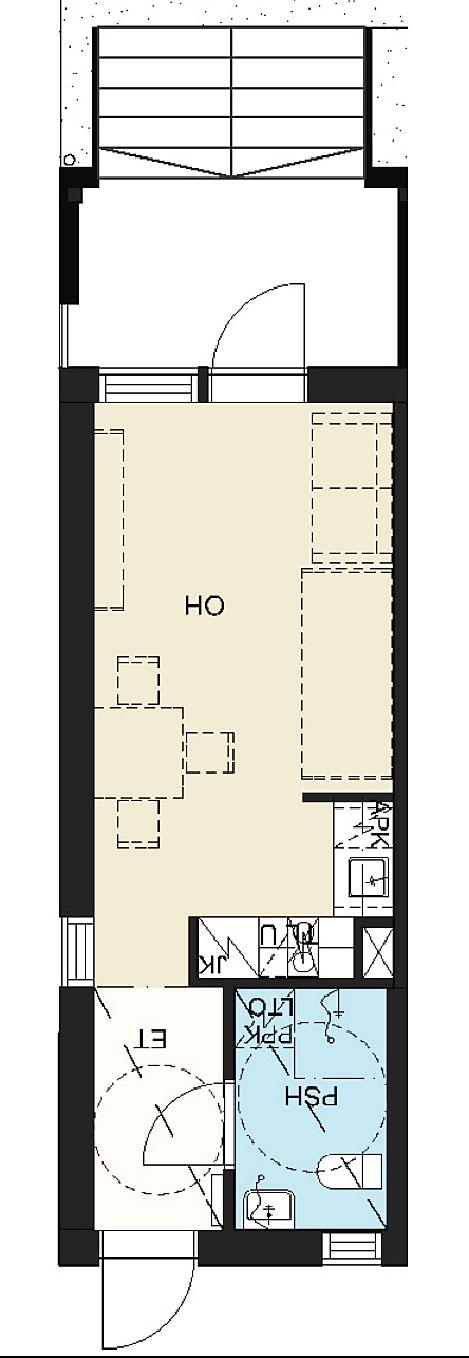door: (206, 270, 304, 405), (97, 1224, 200, 1347), (138, 1076, 232, 1164)
window: (62, 911, 97, 992), (104, 376, 193, 402), (319, 1230, 381, 1264)
zone: (97, 396, 397, 976), (64, 14, 403, 364), (238, 989, 388, 1228), (100, 983, 216, 1230)
